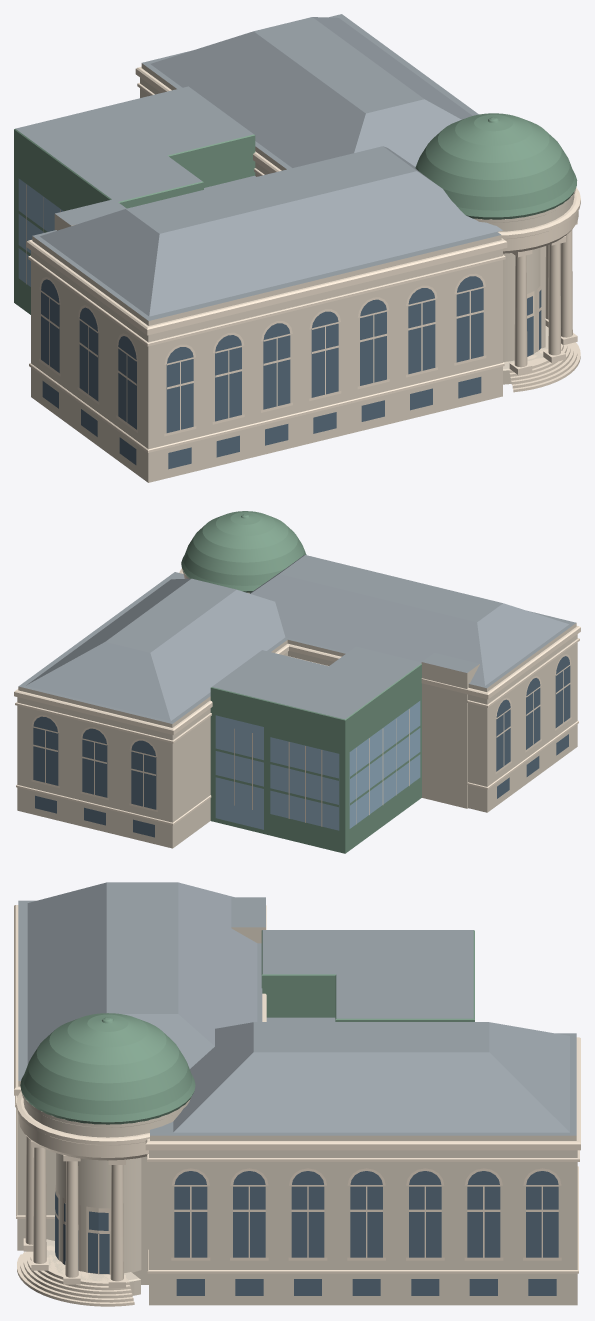
Rendered from dc-au-mckinley-building.glb.
The picture shows the model from 3 angles, top to bottom: view 1: azimuth 30°, elevation 25°; view 2: azimuth 150°, elevation 25°; view 3: azimuth 270°, elevation 25°; orthographic projection. The views are drawn at different scales.
Parts seen in each view (by area): view 1: McKinley Building; view 2: McKinley Building; view 3: McKinley Building.
Part boxes in pixels (x1,y1,x2,y2): McKinley Building: [14, 14, 580, 482]; McKinley Building: [14, 511, 580, 853]; McKinley Building: [14, 882, 580, 1306].
Bounding box in the file's own units: 43.97 × 21.42 × 44.12.
